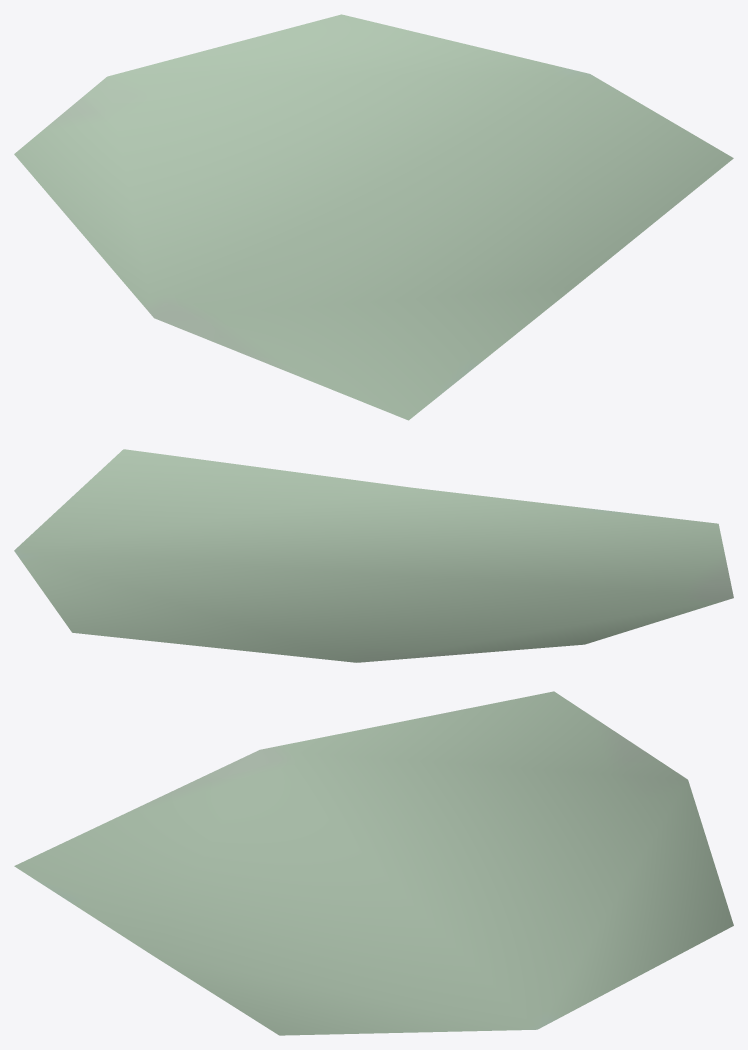
The model's file is TROLLHOLE02_HOLECAP190.fbx.
The picture shows the model from 3 angles, top to bottom: view 1: azimuth 30°, elevation 25°; view 2: azimuth 150°, elevation 25°; view 3: azimuth 270°, elevation 25°; orthographic projection. The views are drawn at different scales.
Parts seen in each view (by area): view 1: TROLLHOLE02_HOLECAP190; view 2: TROLLHOLE02_HOLECAP190; view 3: TROLLHOLE02_HOLECAP190.
Boxes of the visible parts, left/top/right/bottom form: TROLLHOLE02_HOLECAP190: left=14, top=14, right=733, bottom=420; TROLLHOLE02_HOLECAP190: left=14, top=449, right=733, bottom=662; TROLLHOLE02_HOLECAP190: left=14, top=691, right=733, bottom=1035.
Size of the model in its own units: 11643 by 2001 by 11996.
1 material, 1 textured.
